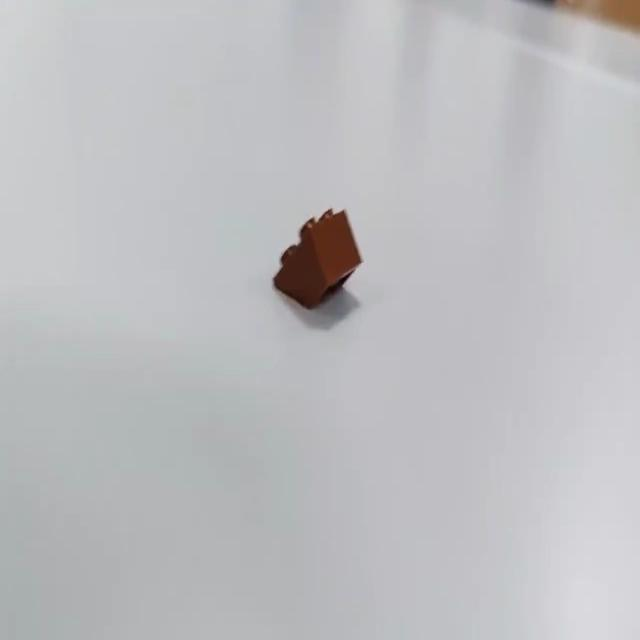X2x2x1: (272, 204, 364, 310)
